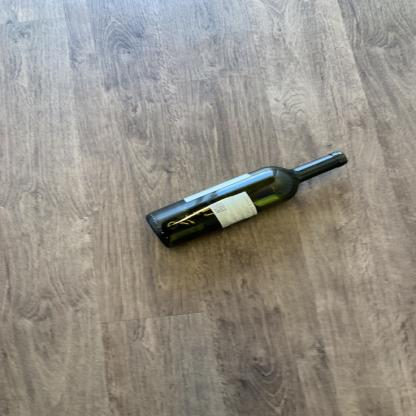trash: (142, 150, 350, 250)
